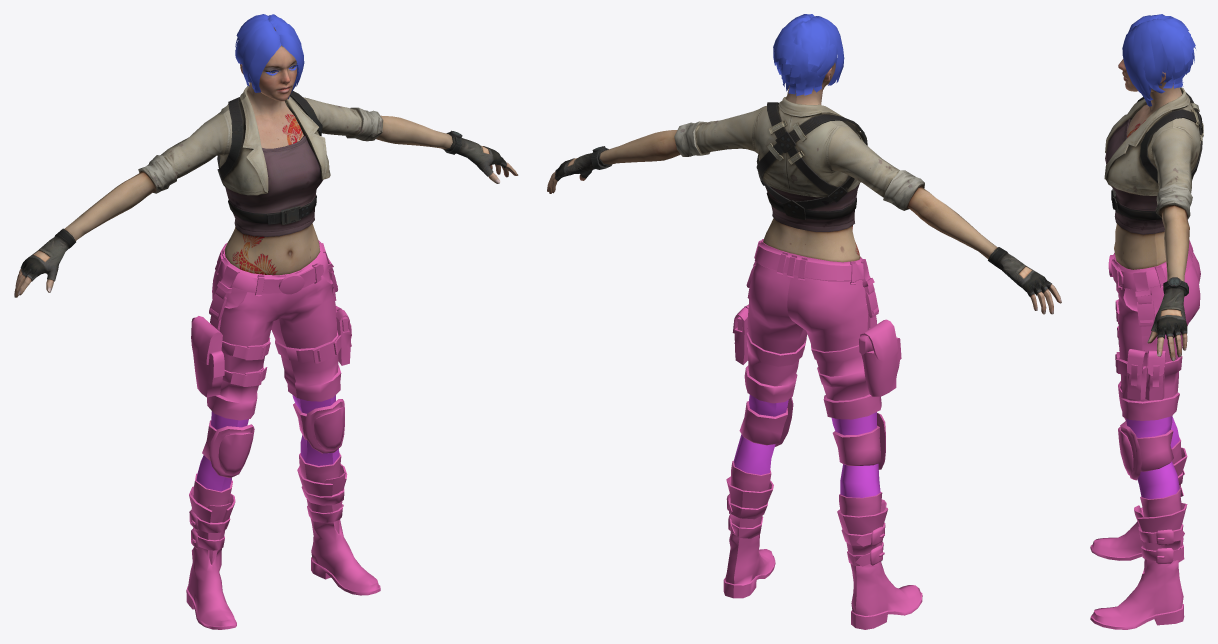
Rendered from resident-evil-racoon-city-party-girl.obj.
The picture shows the model from 3 angles, left to right: view 1: azimuth 30°, elevation 25°; view 2: azimuth 150°, elevation 25°; view 3: azimuth 270°, elevation 25°; orthographic projection. The views are drawn at different scales.
Visible parts, largest first — view 1: Pants, _4, _5, _3, _2, Knees; view 2: Pants, _4, _5, _2, Knees; view 3: Pants, _4, _2, _5, Knees, _3.
Part boxes in pixels (x1,y1,x2,y2): Pants: (186, 240, 380, 629); _4: (20, 86, 506, 281); _5: (14, 115, 518, 297); _3: (240, 27, 303, 148); _2: (235, 14, 304, 99); Knees: (196, 395, 339, 491); Pants: (723, 239, 922, 629); _4: (555, 97, 1051, 296); _5: (547, 130, 1061, 314); _2: (773, 14, 844, 96); Knees: (734, 394, 880, 497); Pants: (1090, 240, 1200, 629); _4: (1104, 87, 1203, 338); _2: (1122, 14, 1195, 106); _5: (1114, 205, 1189, 361); Knees: (1126, 415, 1179, 499); _3: (1118, 59, 1181, 137).
Bounding box in the file's own units: 1.64 × 1.8 × 0.3234.
Materials: 5 (2 with a texture image).
